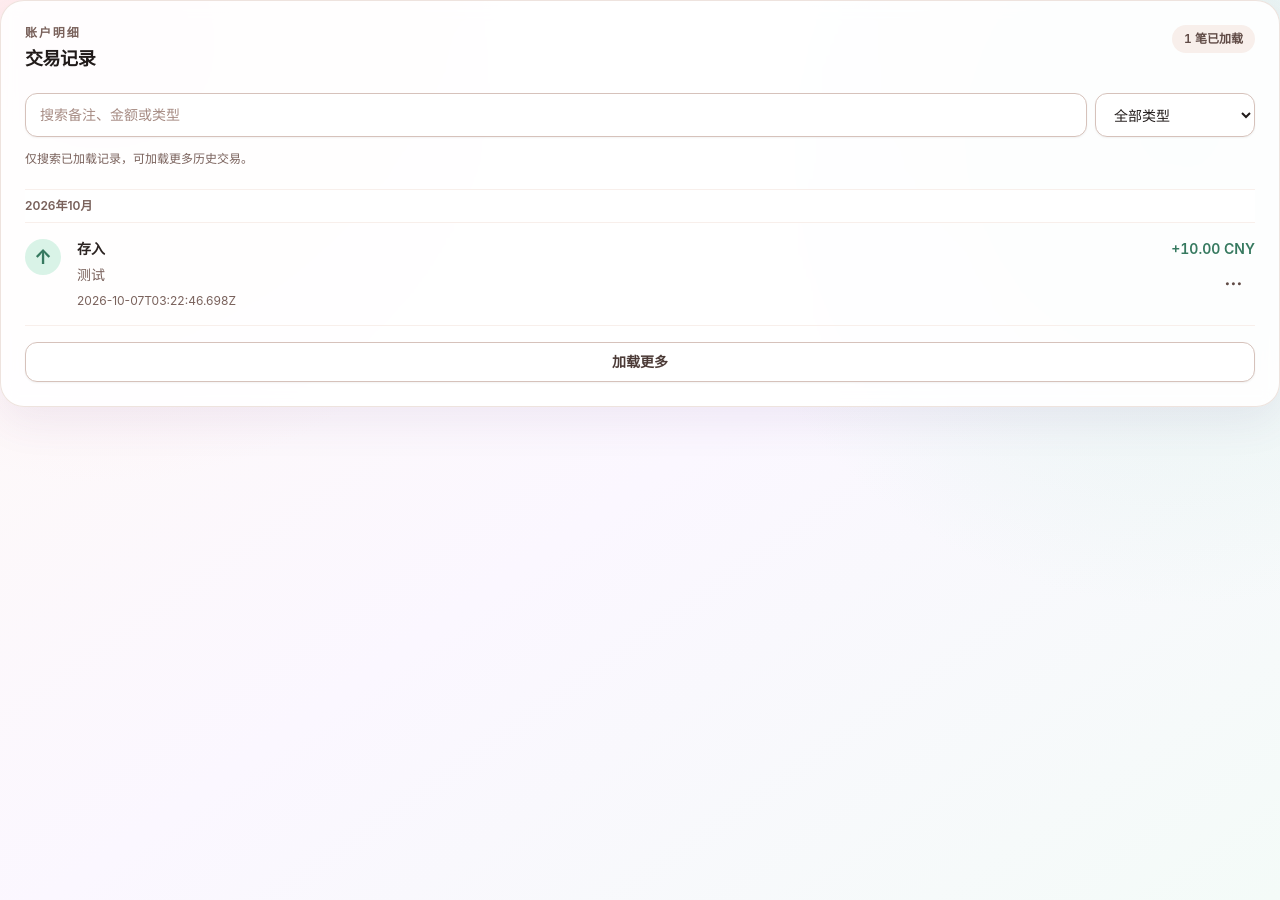
Test case: TransactionsList note actions › opens the editor from the menu and restores focus, filters and loaded rows after saving
This screenshot has width=1280, height=900.
In the search field: (556,115) [25,93,1087,137], type "测试"
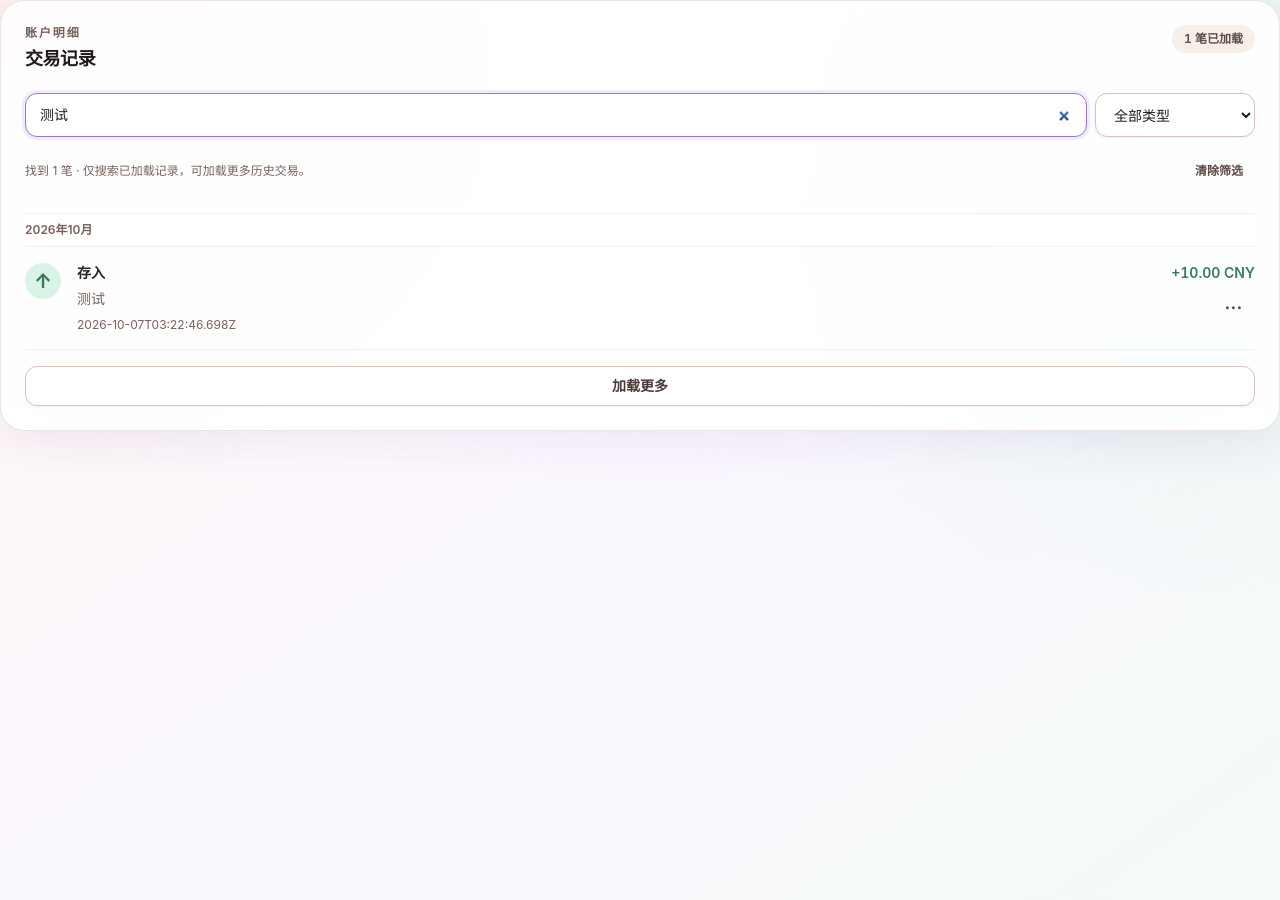
Click the button named "更多操作：": (1233,309) [1211,287,1255,331]
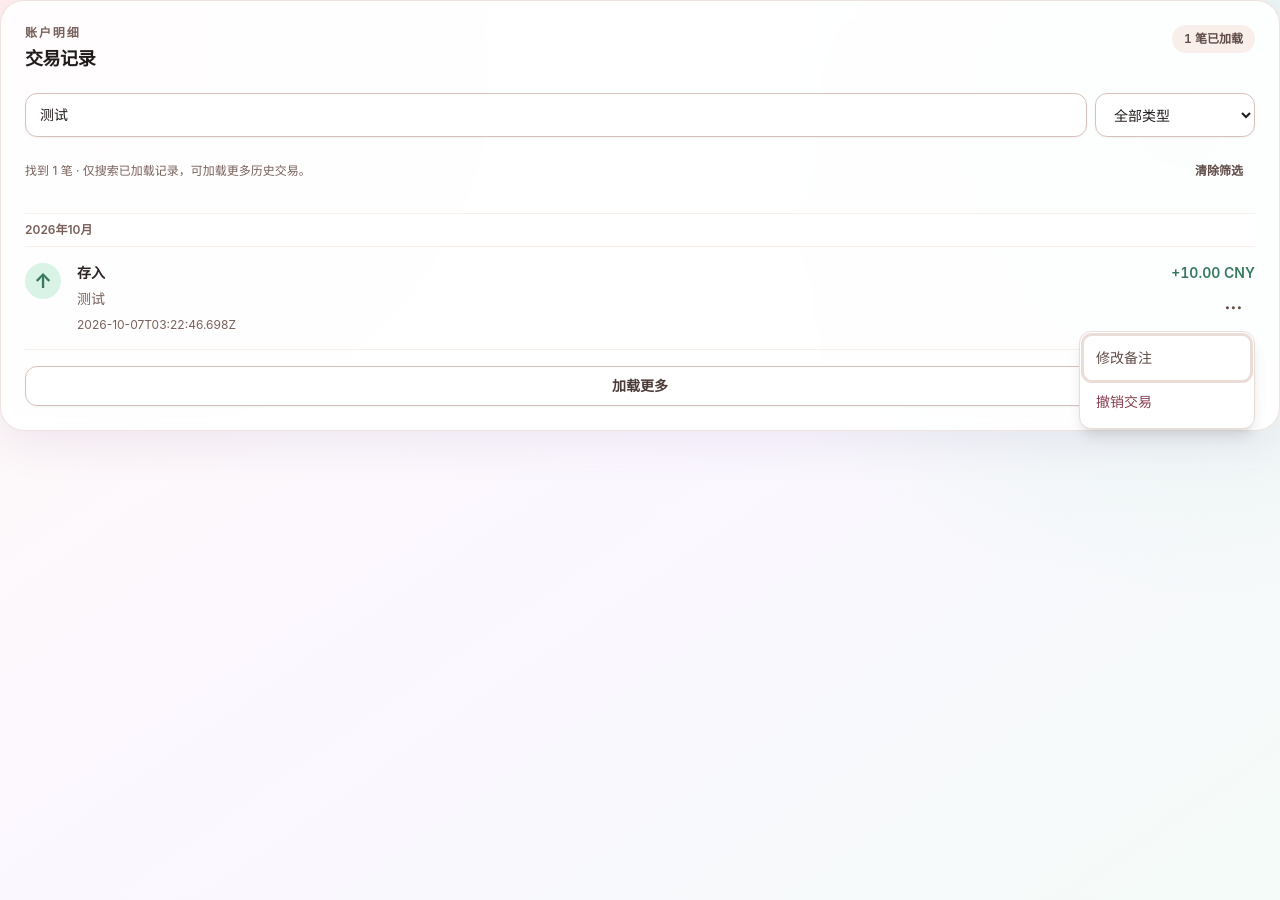
Click the button "修改备注": (1167,358) [1084,336,1250,380]
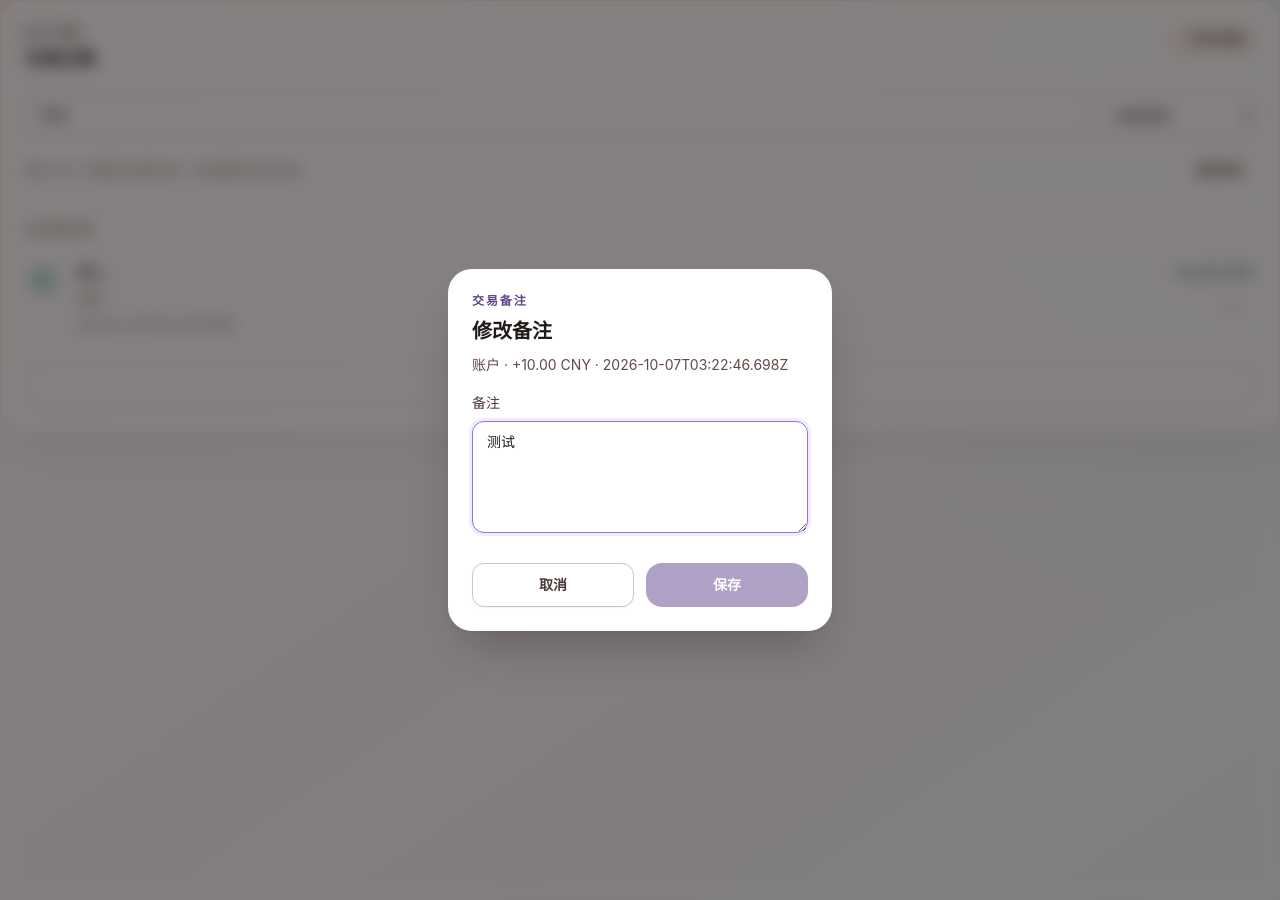
Result: the heading "修改备注" is shown at [472,319,552,343]
Replace the text in the text box labelled "备注" with "测试修正": (640,477) [472,421,808,533]
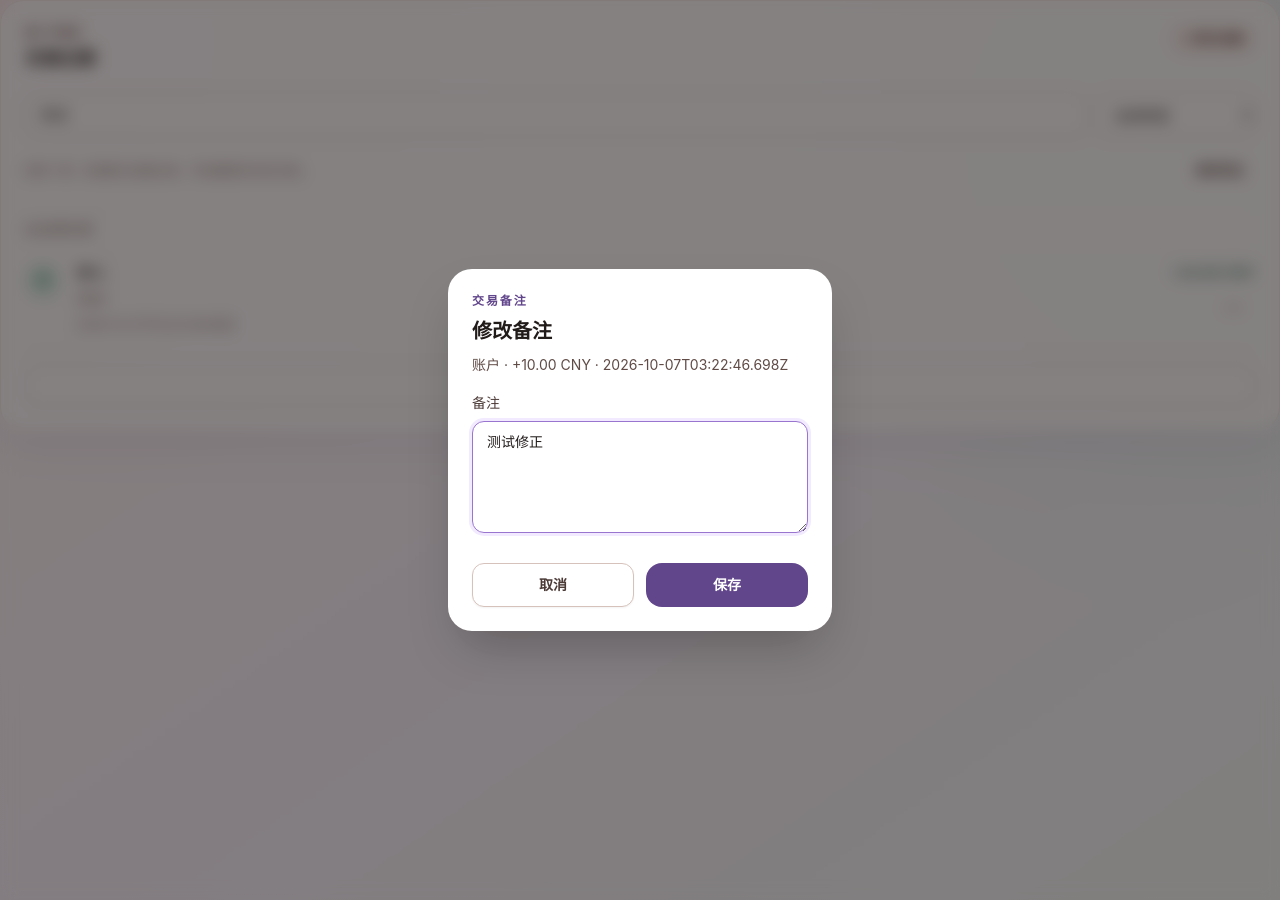
Click the button "保存": (727,585) [646,563,808,607]
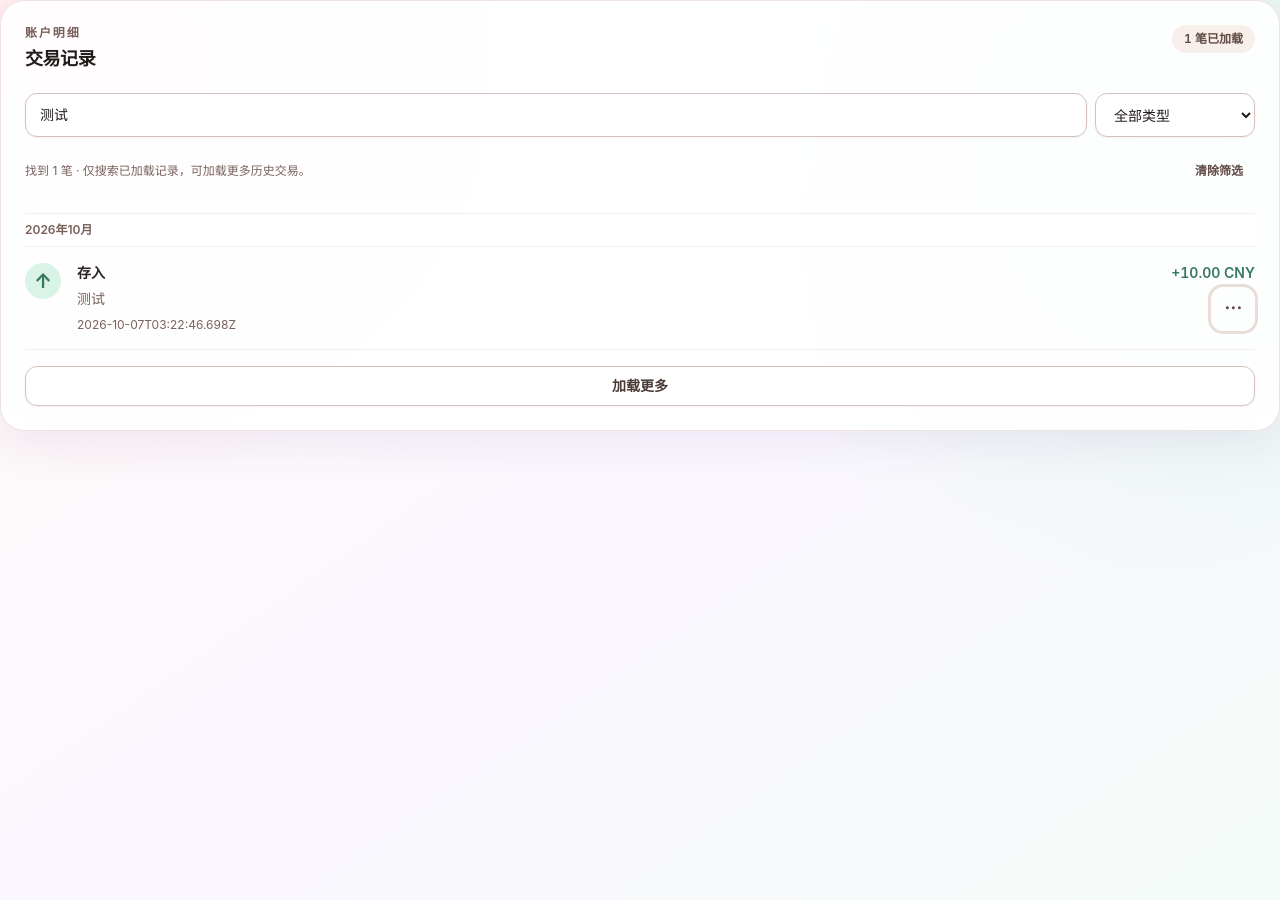
Expected: the button "加载更多" is shown, [25,366,1255,406]
Result: the dialog is gone
